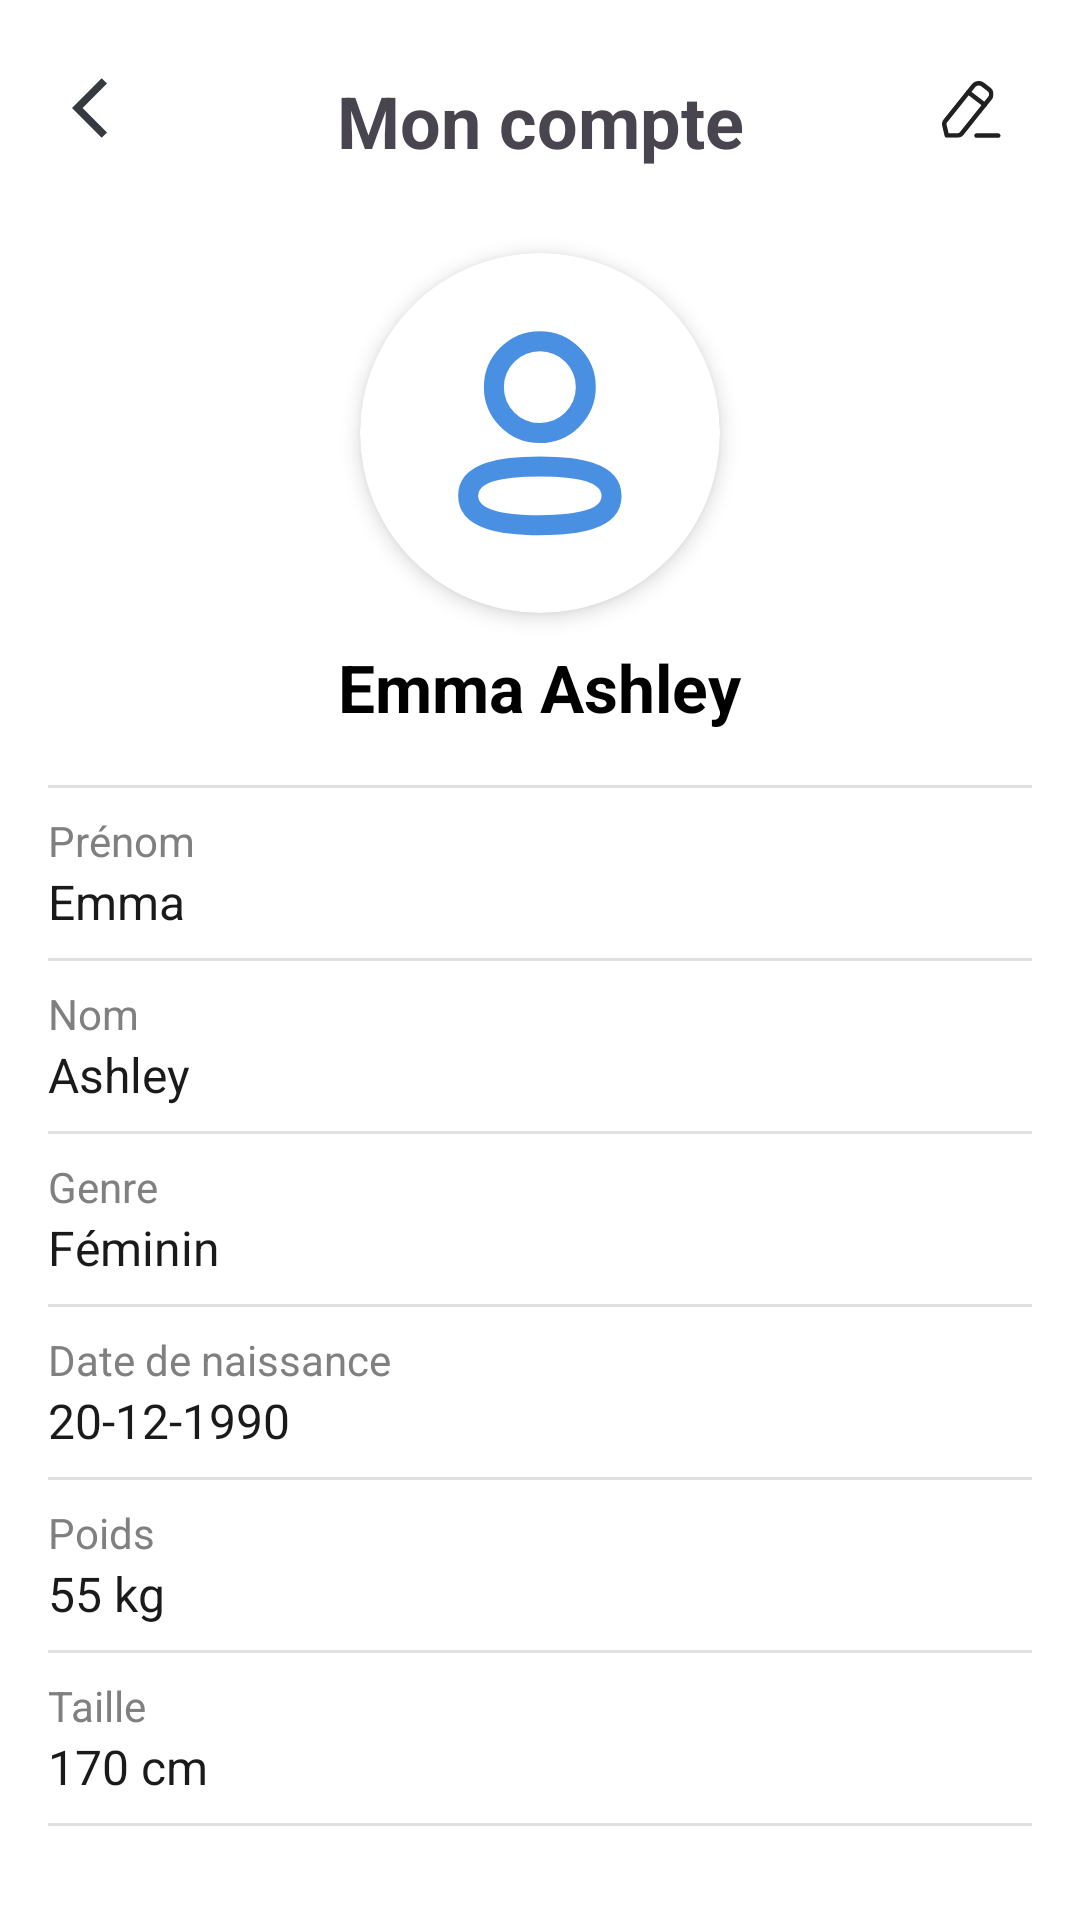

Icon bounding boxes for this 1080×1920 phone screenshot, format (x1, y1, x2, y2):
Modifier: (942, 81, 1001, 138)
Photo de profil: (458, 331, 622, 536)
Retour: (72, 78, 107, 138)
